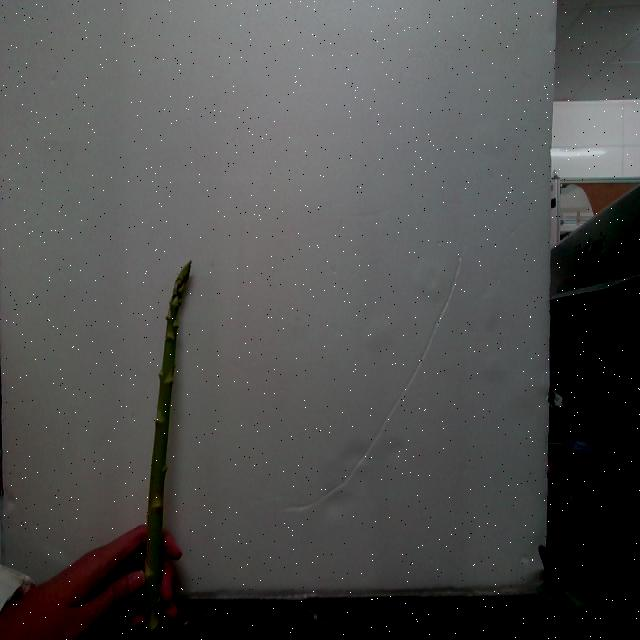aspargus: (146, 263, 194, 640)
